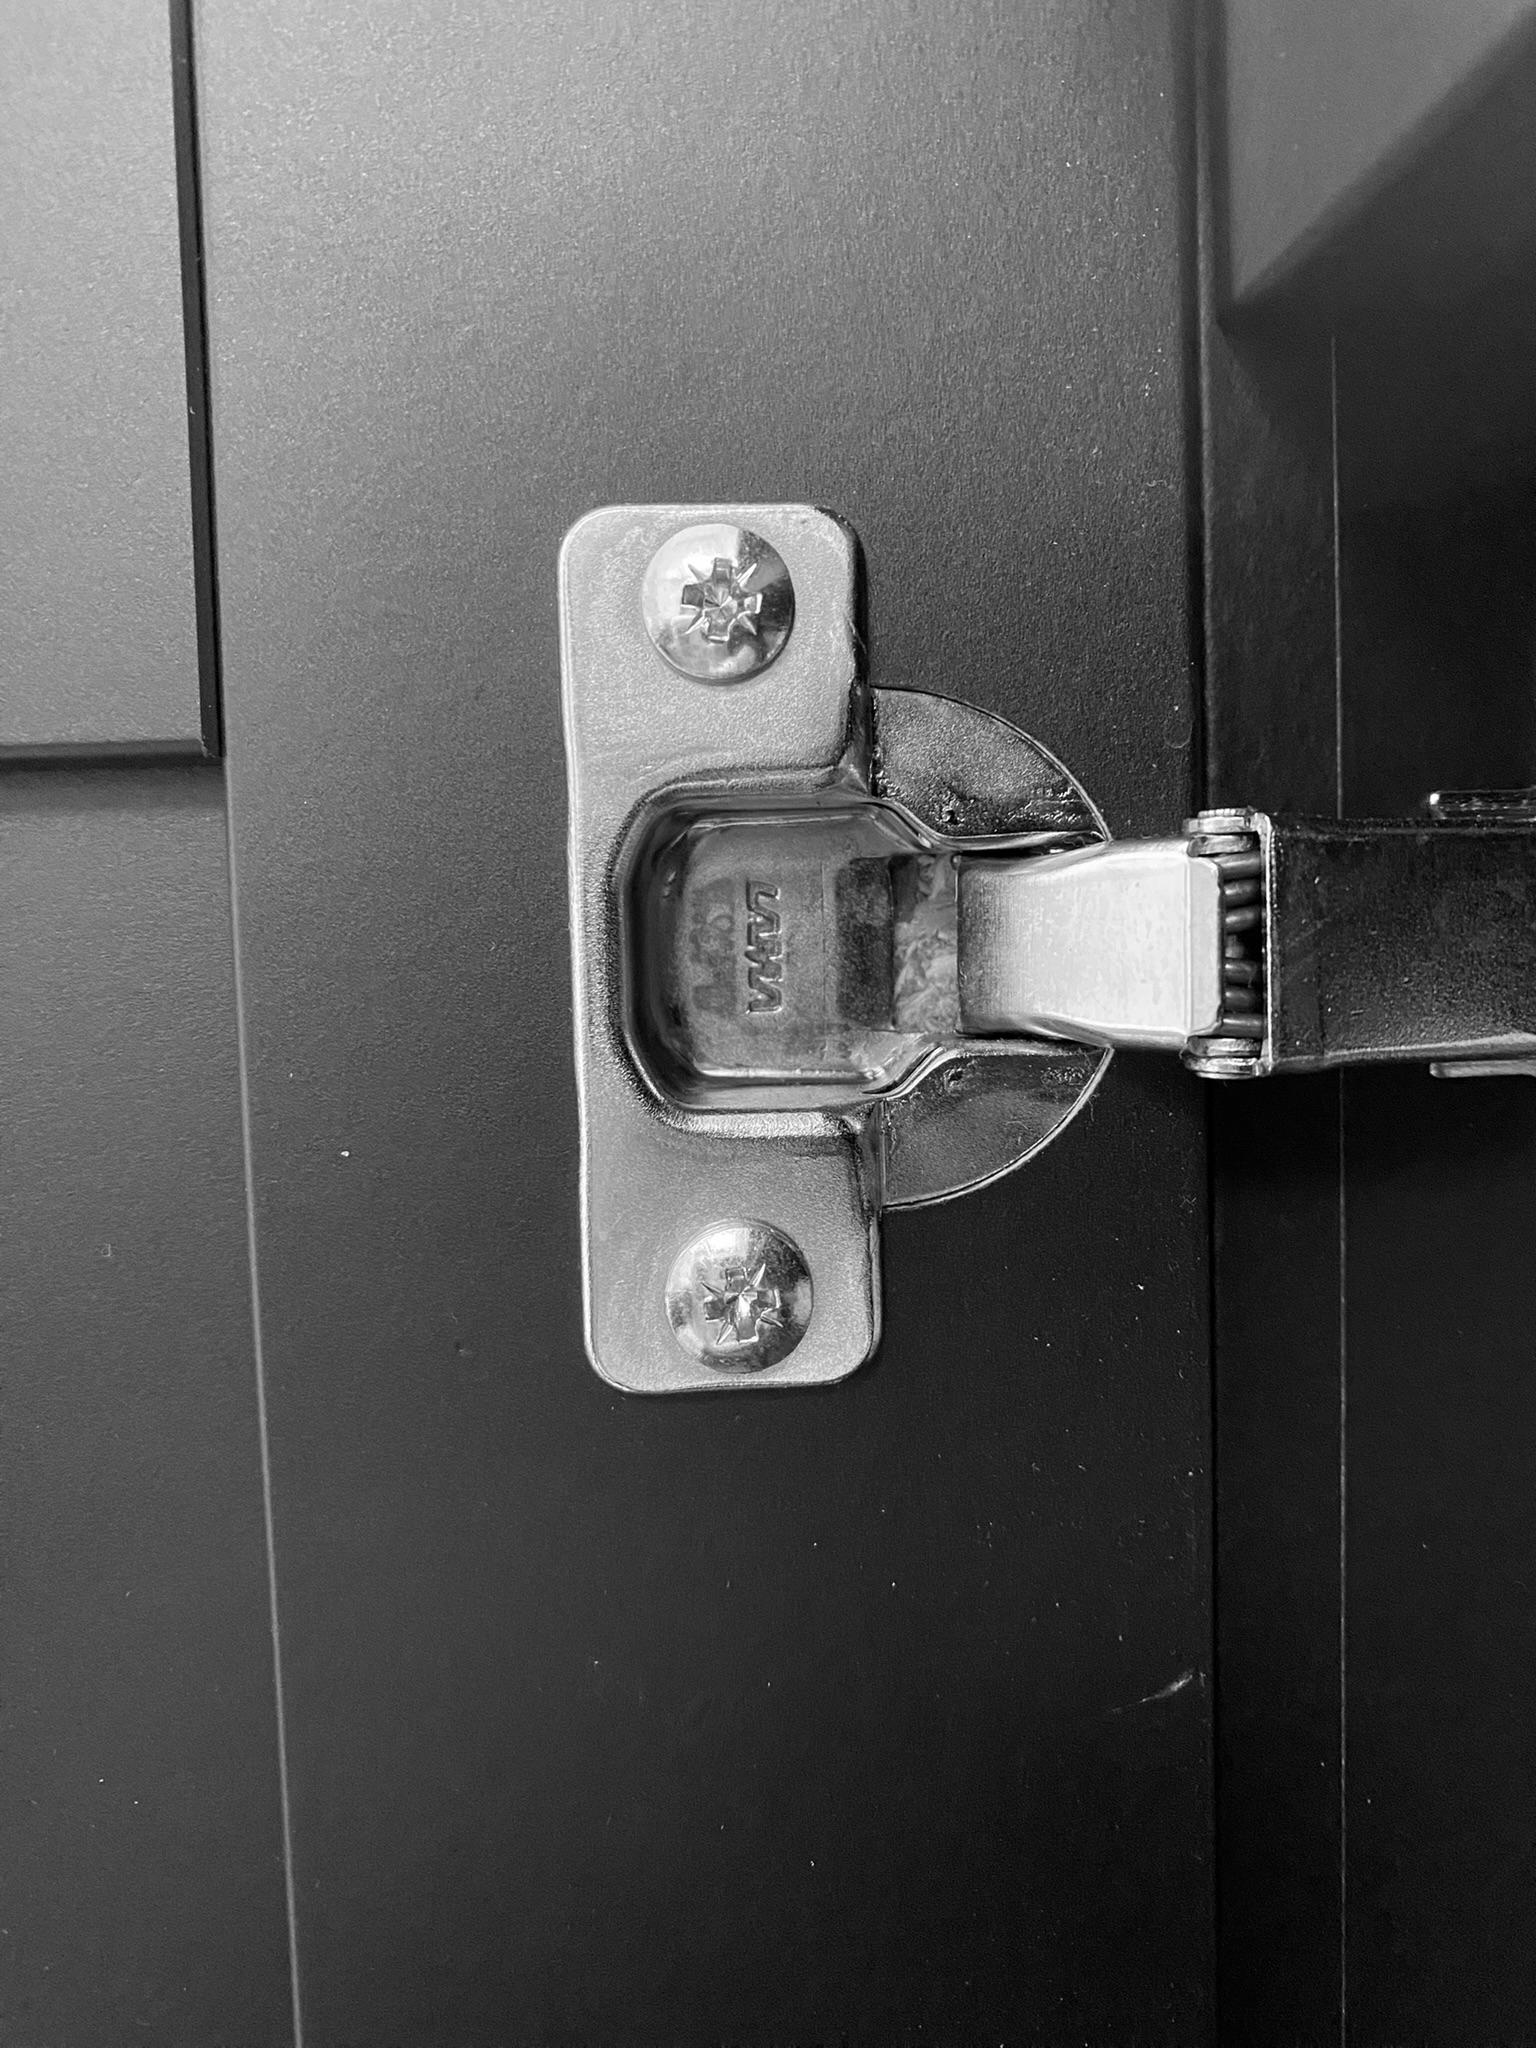screw: (641, 519, 795, 685), (665, 1221, 815, 1374)
